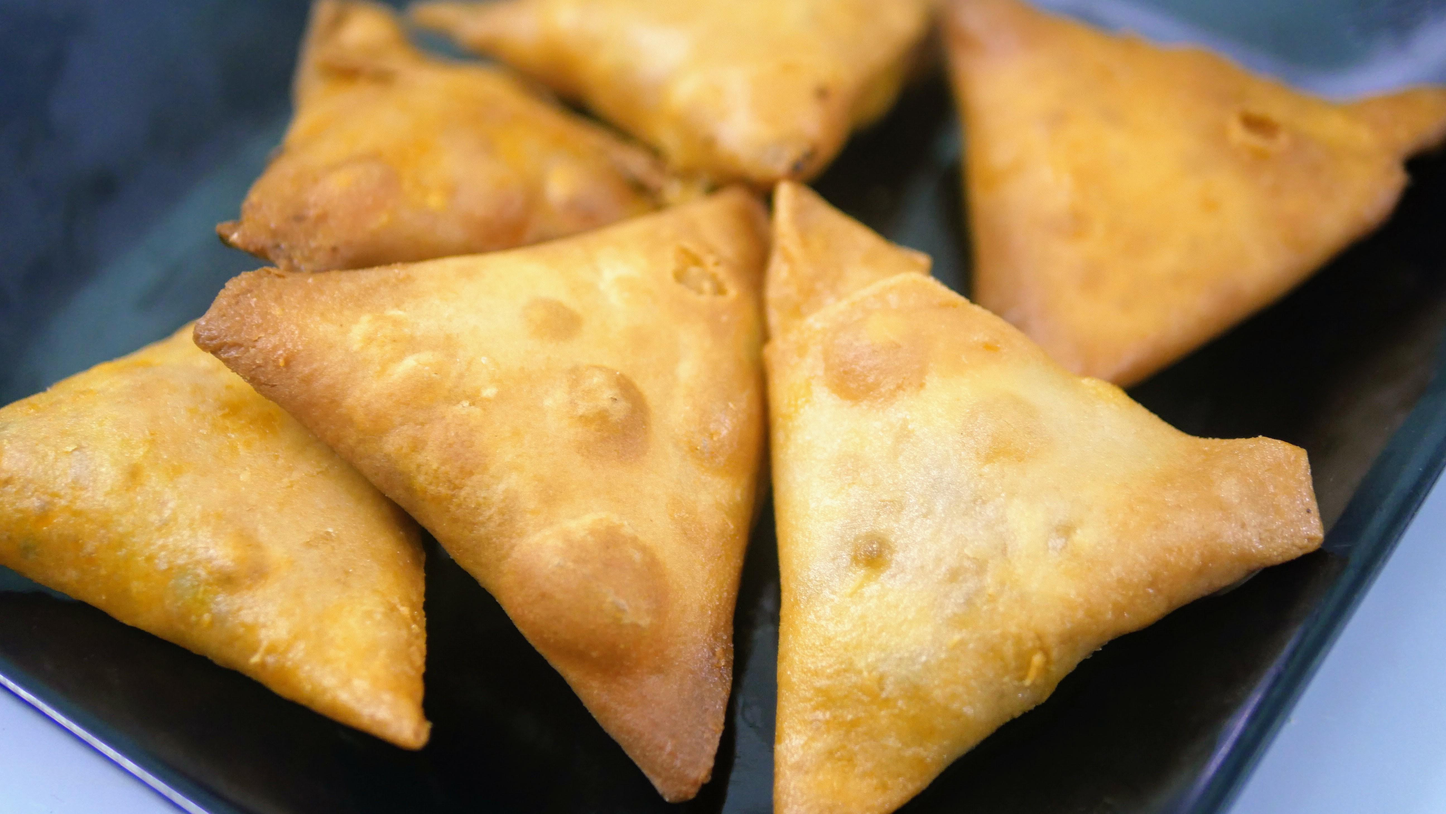Samosa: (771, 172, 1321, 814), (205, 186, 745, 803), (941, 0, 1446, 379), (0, 311, 436, 749), (216, 0, 701, 269), (408, 0, 940, 178)
